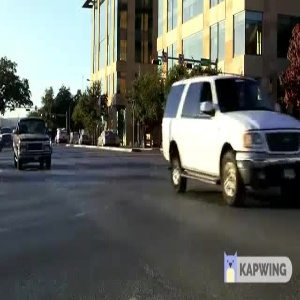suv: (142, 68, 300, 205)
truck: (9, 114, 60, 179)
